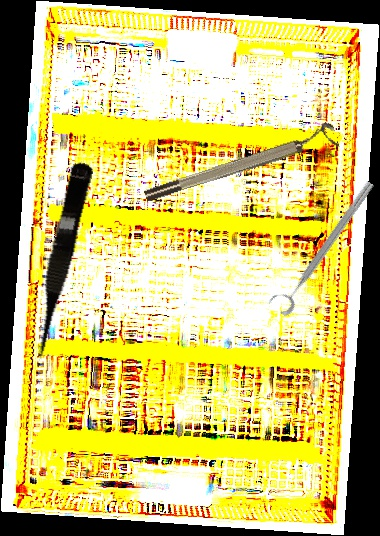Fixation Ring: (140, 120, 340, 206), (265, 173, 379, 318)
Micro Scissor: (22, 159, 95, 364)
